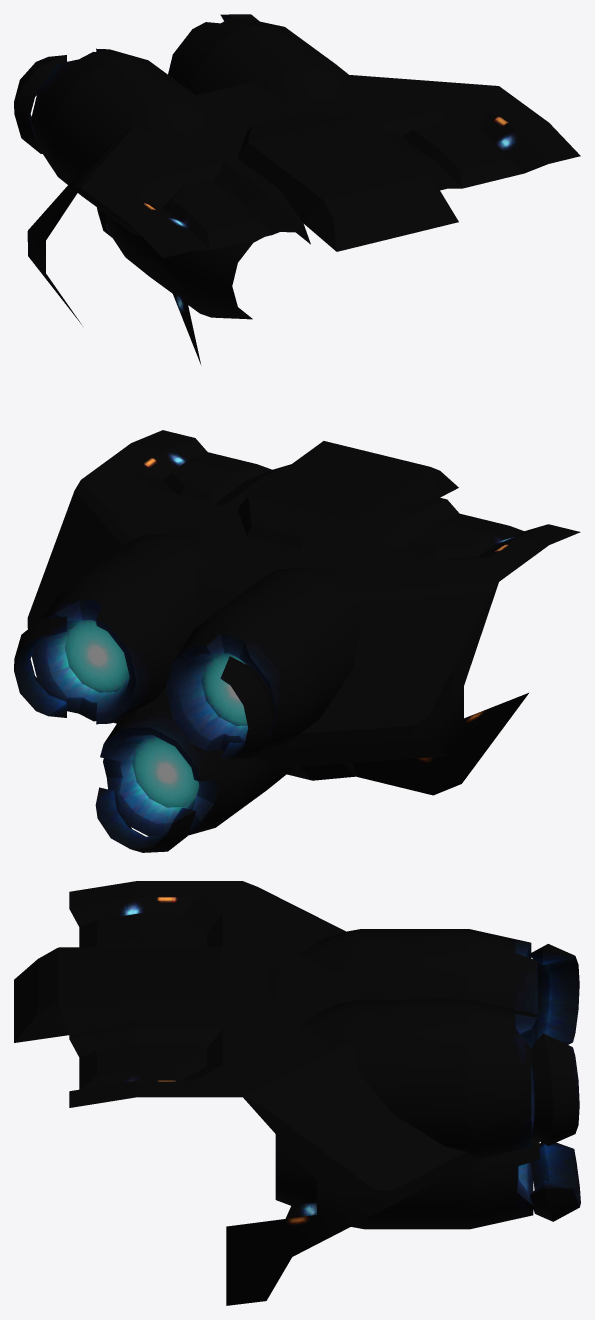
File: engine_hgn_explorer_01_ion_01_t1.glb
3 renders of one model, top to bottom at view 1: azimuth 30°, elevation 25°; view 2: azimuth 150°, elevation 25°; view 3: azimuth 270°, elevation 25°, orthographic. The views are drawn at different scales.
Parts seen in each view (by area): view 1: ion_engine_t1_s_01_LOD0; view 2: ion_engine_t1_s_01_LOD0; view 3: ion_engine_t1_s_01_LOD0.
Boxes of the visible parts, left/top/right/bottom form: ion_engine_t1_s_01_LOD0: left=14, top=14, right=580, bottom=365; ion_engine_t1_s_01_LOD0: left=14, top=430, right=580, bottom=852; ion_engine_t1_s_01_LOD0: left=14, top=881, right=580, bottom=1305.
Bounding box in the file's own units: 1.99 × 0.9706 × 1.99.
1 material, 1 textured.
